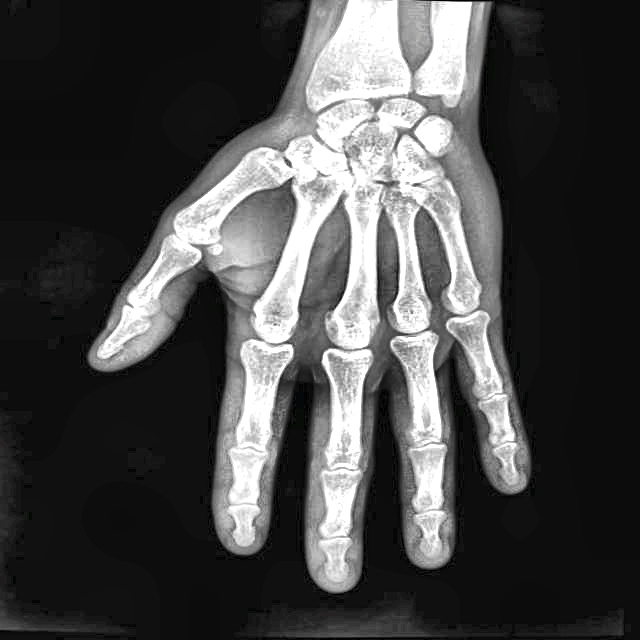Healthy: (139, 33, 529, 515)
